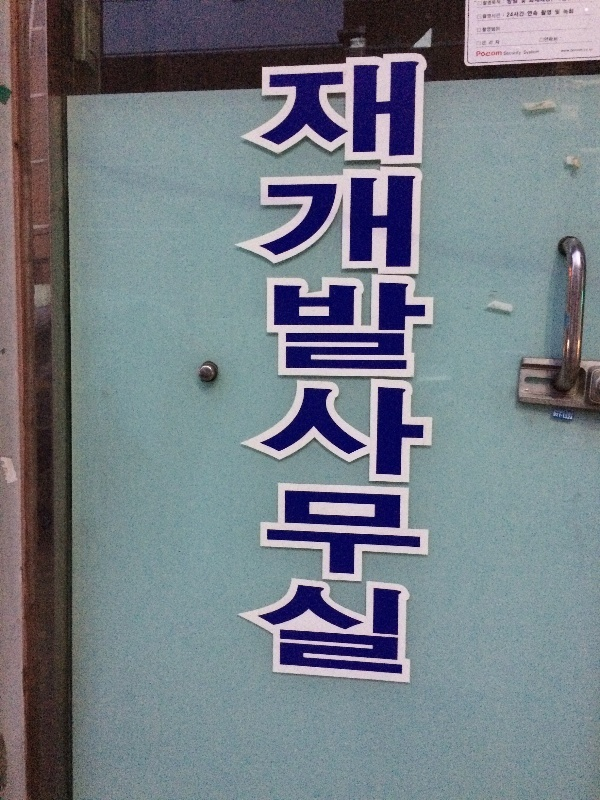text: (241, 51, 256, 689), (257, 51, 272, 689), (273, 51, 288, 689), (289, 51, 304, 689), (305, 51, 320, 689), (321, 51, 336, 689), (337, 51, 352, 689), (353, 51, 368, 689), (369, 51, 384, 689), (385, 51, 400, 689), (401, 51, 416, 689), (417, 51, 432, 689), (433, 51, 434, 689), (561, 409, 574, 421), (513, 8, 528, 18), (529, 8, 544, 18), (545, 8, 560, 18), (561, 8, 574, 18), (481, 51, 496, 59), (513, 50, 528, 57), (545, 37, 560, 44), (497, 1, 512, 7), (513, 1, 528, 7), (529, 1, 544, 7), (577, 48, 593, 53), (483, 27, 496, 33), (483, 40, 496, 46), (554, 409, 560, 421), (484, 1, 496, 7), (529, 50, 539, 57), (562, 48, 576, 53), (483, 14, 496, 19), (504, 50, 512, 57), (507, 8, 512, 18), (497, 51, 503, 59), (477, 51, 480, 59), (545, 1, 549, 7), (497, 27, 501, 33), (497, 14, 501, 19), (497, 40, 500, 46)
